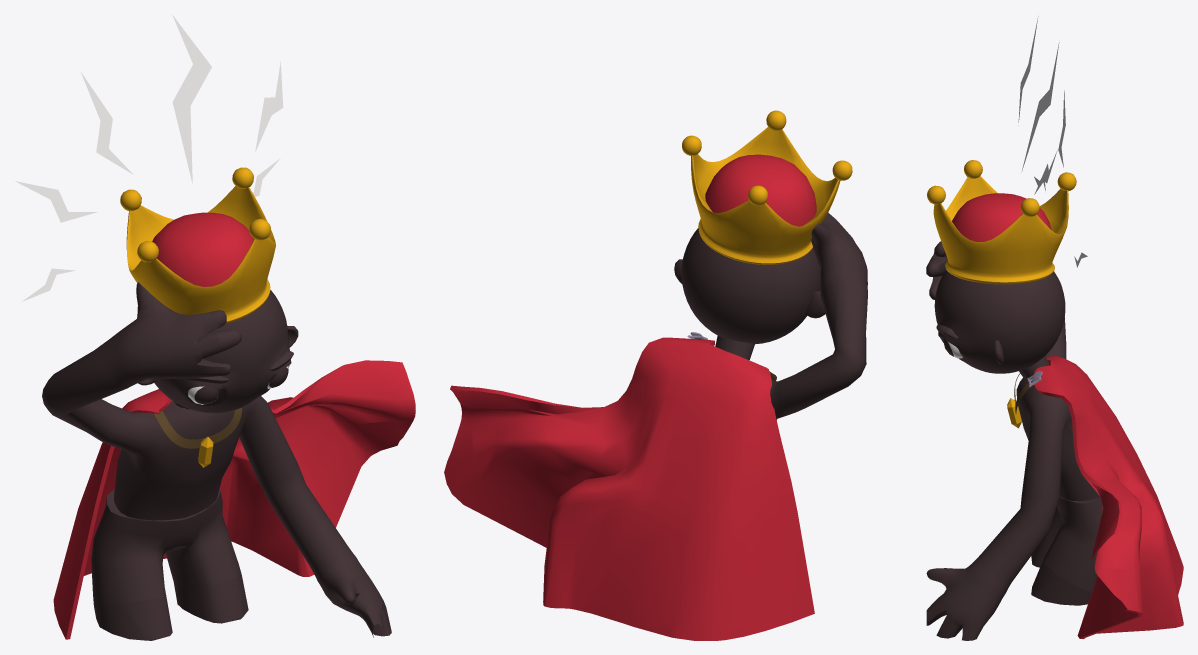
The model's file is mzMCEK25Cz.glb.
3 renders of one model, left to right at view 1: azimuth 30°, elevation 25°; view 2: azimuth 150°, elevation 25°; view 3: azimuth 270°, elevation 25°, orthographic. The views are drawn at different scales.
Parts seen in each view (by area): view 1: King; view 2: King; view 3: King.
Boxes of the visible parts, x1,y1,x2,y2 form: King: [15, 15, 415, 640]; King: [444, 110, 867, 640]; King: [926, 16, 1183, 640].
Size of the model in its own units: 2.31 by 3.13 by 1.37.
2 materials, 2 textured.
